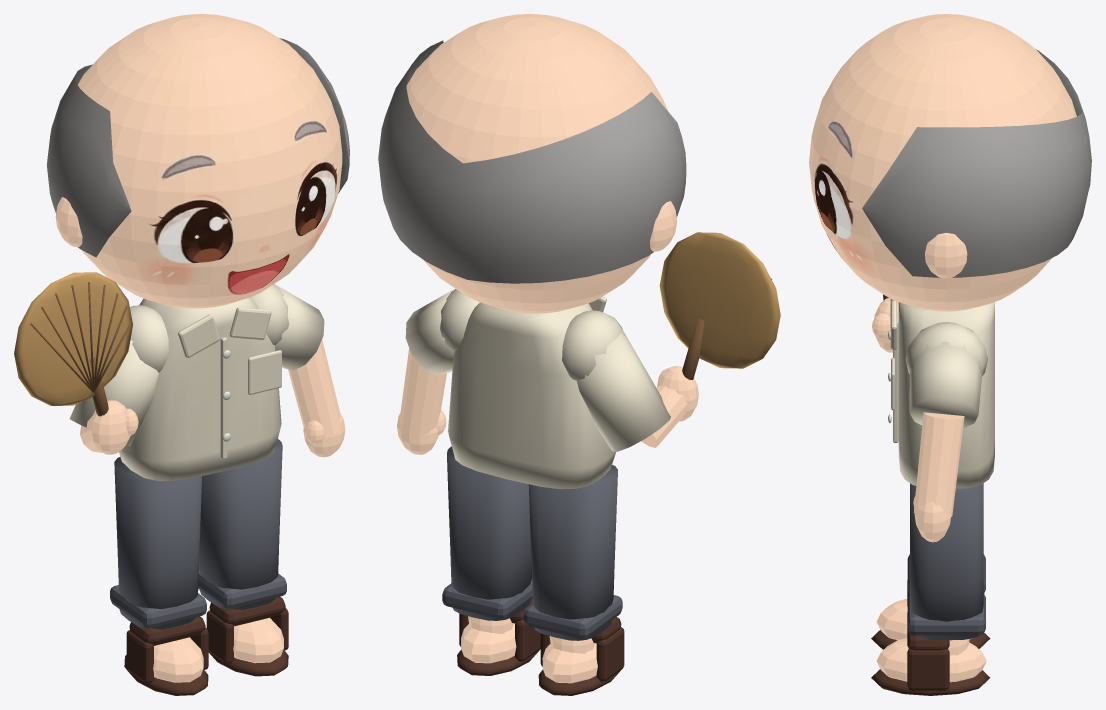
Rendered from person-uncle.glb.
The picture shows the model from 3 angles, left to right: view 1: azimuth 30°, elevation 25°; view 2: azimuth 150°, elevation 25°; view 3: azimuth 270°, elevation 25°; orthographic projection.
Parts seen in each view (by area): view 1: Smooth full depth round head with 2D face only, Short soft shirt, Trouser leg, Palm leaf fan, Continuous silver horseshoe hair band, Trouser leg.001, Forearm.001, Capped short sleeve, Capped short sleeve.001, Covered shoulder, Foot on sandal, Foot on sandal.001 (+16 smaller); view 2: Continuous silver horseshoe hair band, Smooth full depth round head with 2D face only, Short soft shirt, Palm leaf fan, Trouser leg, Trouser leg.001, Capped short sleeve, Covered shoulder, Forearm.001, Capped short sleeve.001, Turned trouser cuff, Foot on sandal (+12 smaller); view 3: Smooth full depth round head with 2D face only, Continuous silver horseshoe hair band, Trouser leg.001, Short soft shirt, Capped short sleeve.001, Forearm.001, Foot on sandal.001, Covered shoulder.001, Sandal strap side connection.003, Ear.001, Turned trouser cuff.001, Sandal sole.001 (+4 smaller).
Boxes of the visible parts, x1,y1,x2,y2 form: Smooth full depth round head with 2D face only: (78,14,342,308); Short soft shirt: (119,297,281,480); Trouser leg: (114,457,201,629); Palm leaf fan: (14,272,132,405); Continuous silver horseshoe hair band: (47,38,349,257); Trouser leg.001: (199,439,282,609); Forearm.001: (288,339,341,438); Capped short sleeve: (69,340,158,446); Capped short sleeve.001: (274,284,324,370); Covered shoulder: (130,305,168,372); Foot on sandal: (153,637,203,682); Foot on sandal.001: (233,617,283,663); Continuous silver horseshoe hair band: (378,40,686,283); Smooth full depth round head with 2D face only: (406,14,667,313); Short soft shirt: (448,302,615,489); Palm leaf fan: (659,232,780,368); Trouser leg: (528,464,617,640); Trouser leg.001: (447,446,531,620); Capped short sleeve: (577,330,670,451); Covered shoulder: (562,310,624,380); Forearm.001: (399,348,446,438); Capped short sleeve.001: (405,288,455,374); Turned trouser cuff: (524,595,622,638); Foot on sandal: (542,643,597,683); Smooth full depth round head with 2D face only: (809,14,1076,311); Continuous silver horseshoe hair band: (862,49,1091,277); Trouser leg.001: (910,483,983,640); Short soft shirt: (898,302,994,488); Capped short sleeve.001: (909,341,982,428); Forearm.001: (913,412,964,518); Foot on sandal.001: (876,638,986,682); Covered shoulder.001: (905,322,987,376); Sandal strap side connection.003: (907,649,949,690); Ear.001: (925,232,967,278); Turned trouser cuff.001: (907,593,985,635); Sandal sole.001: (871,669,990,695).
Size of the model in its own units: 0.89 by 1.54 by 0.616.
Materials: 9 (1 with a texture image).
